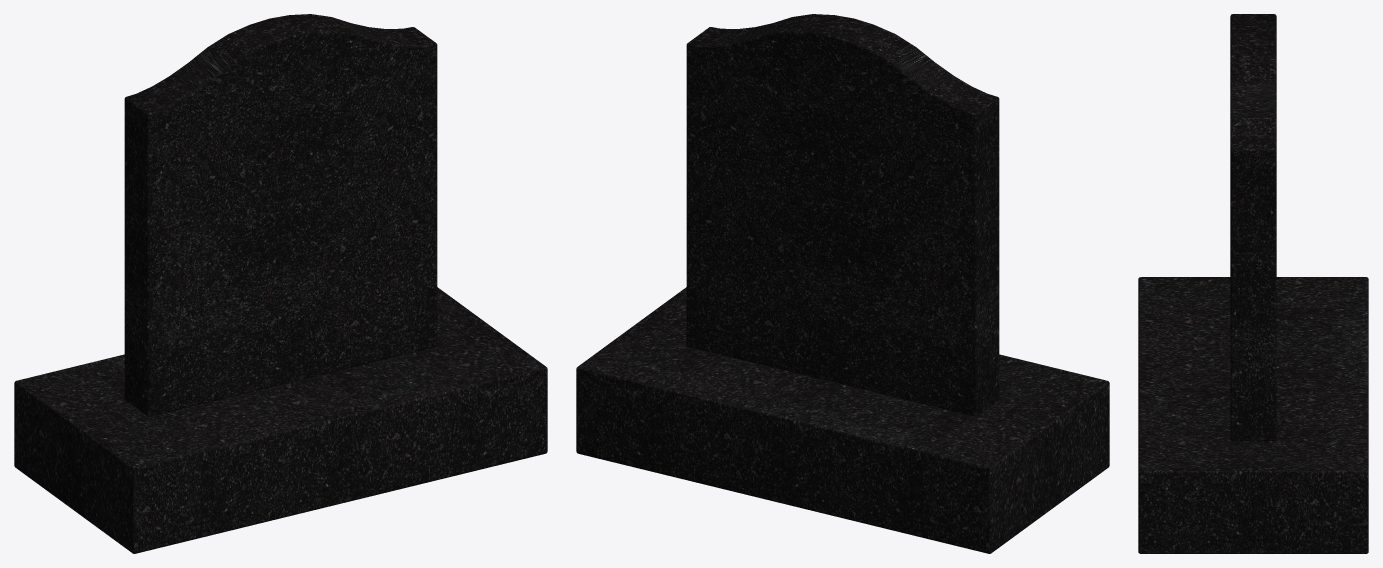
File: Number 4 (Small).gltf
3 views of the same model, side by side, from view 1: azimuth 30°, elevation 25°; view 2: azimuth 150°, elevation 25°; view 3: azimuth 270°, elevation 25° (orthographic). The views are drawn at different scales.
Parts seen in each view (by area): view 1: Cube.002, Cube.008; view 2: Cube.002, Cube.008; view 3: Cube.008, Cube.002.
Part boxes in pixels (x1,y1,x2,y2): Cube.002: [124, 14, 437, 416]; Cube.008: [14, 287, 547, 553]; Cube.002: [686, 14, 999, 416]; Cube.008: [576, 287, 1109, 553]; Cube.008: [1138, 277, 1368, 553]; Cube.002: [1230, 14, 1276, 441].
Bounding box in the file's own units: 0.5 × 0.4997 × 0.25.
1 material, 1 textured.
